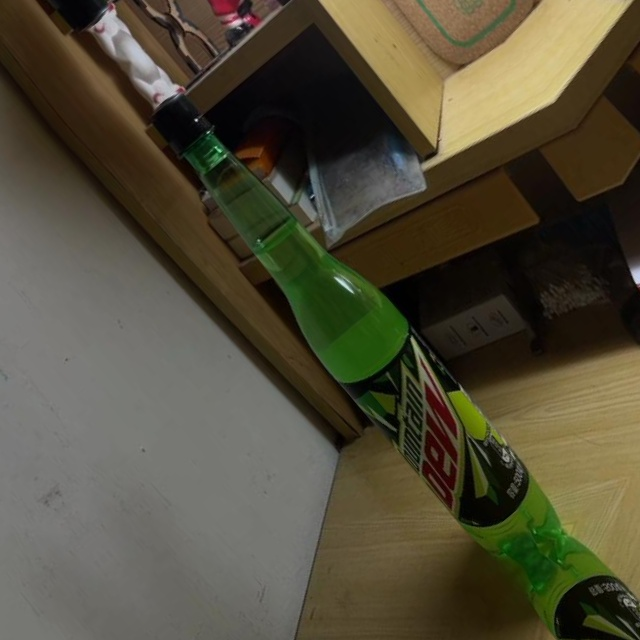Mountain-Dew: (126, 72, 576, 583)
